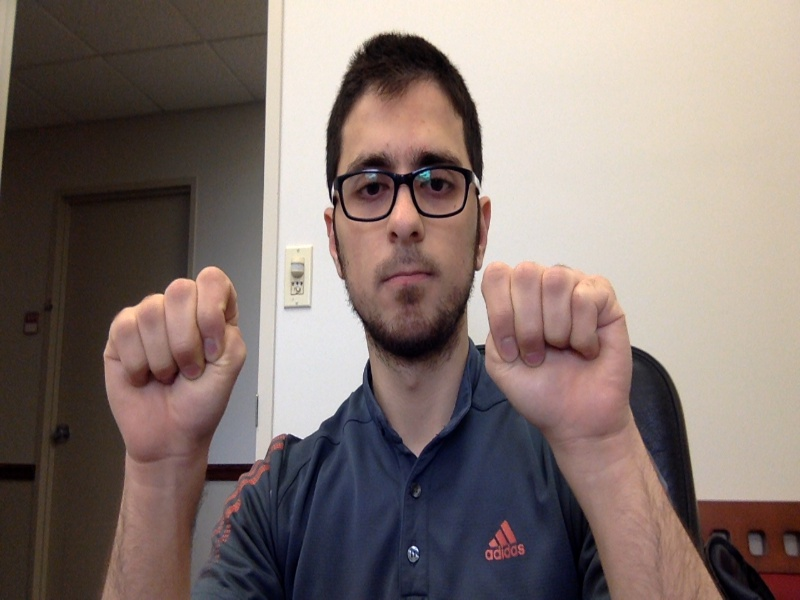0-hand: (103, 267, 245, 470), (483, 261, 633, 450)
